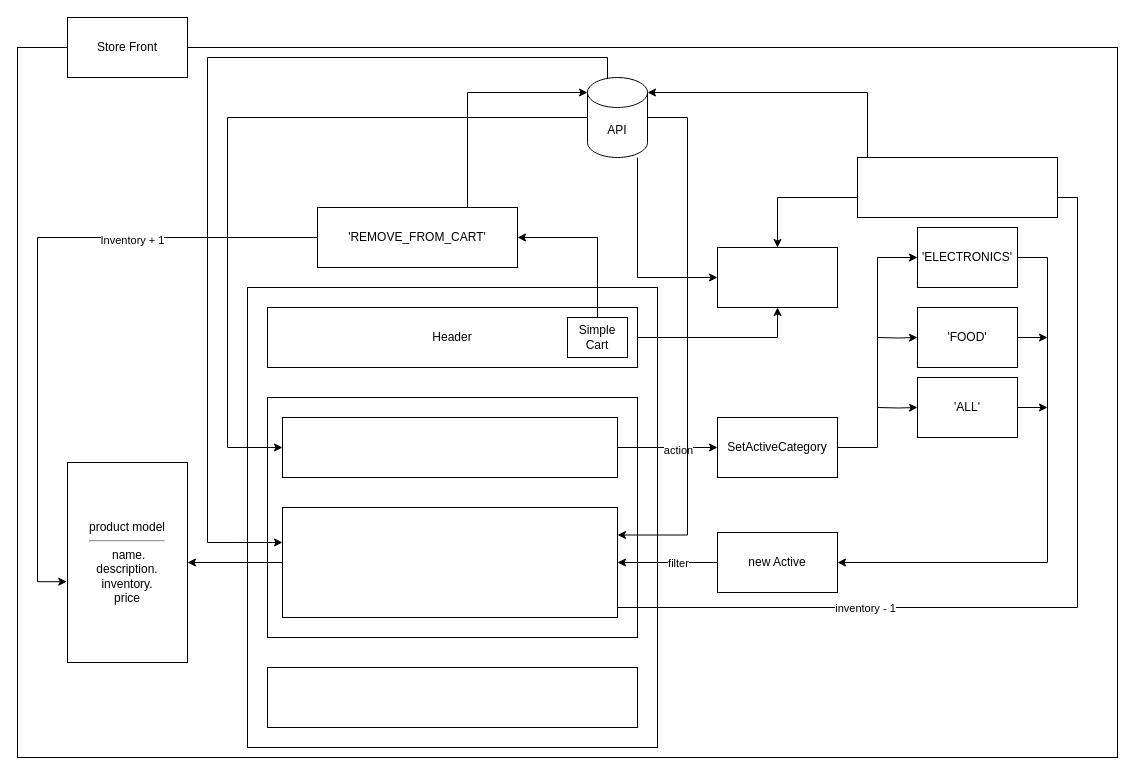
Image size: 1135x775. Some labels were removed from this diagram. The shapes that lost their labels are listed below. From the top down, each one's centre as x and y in pixels, then its label:
the point at 957,187: 'ADD_TO_CART'
the point at 777,277: CART
the point at 450,447: Categories
the point at 450,562: Products
the point at 452,697: Footer
